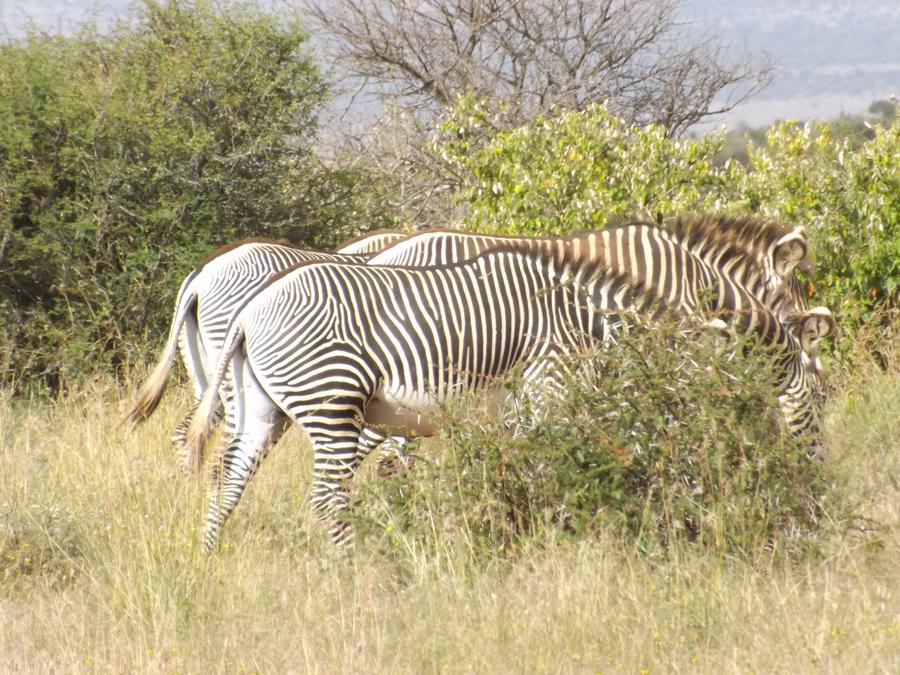zebra_grevys: (229, 265, 587, 403)
